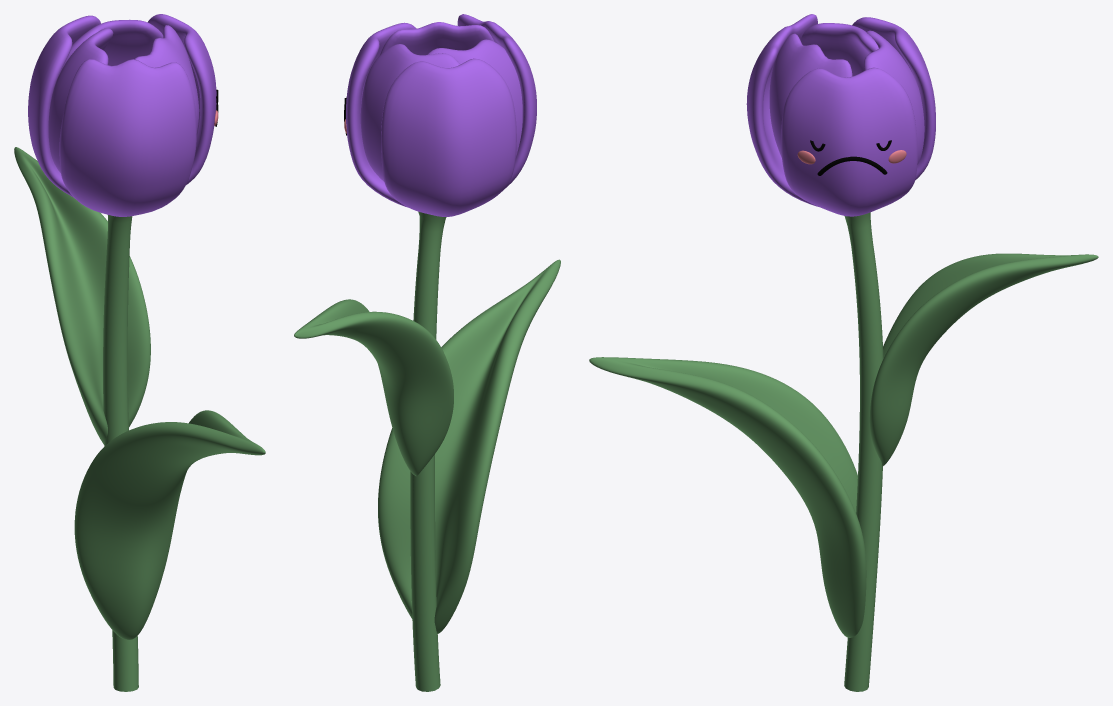
File: vsad.glb
The picture shows the model from 3 angles, left to right: view 1: azimuth 30°, elevation 25°; view 2: azimuth 150°, elevation 25°; view 3: azimuth 270°, elevation 25°; orthographic projection. The views are drawn at different scales.
Visible parts, largest first — view 1: Left Leaf, Petal 6, Right Leaf, Stem, Petal 3, Petal 4, Petal 1, Petal 2, Petal 5; view 2: Left Leaf, Petal 3, Right Leaf, Stem, Petal 2, Petal 4, Petal 6, Petal 5, Petal 1; view 3: Left Leaf, Petal 4, Right Leaf, Stem, Petal 6, Petal 5, Petal 3, Petal 1, Petal 2.
Part boxes in pixels (x1,y1,x2,y2): Left Leaf: [74, 410, 265, 639]; Petal 6: [59, 59, 196, 216]; Right Leaf: [14, 147, 150, 444]; Stem: [103, 215, 138, 691]; Petal 3: [28, 15, 100, 196]; Petal 4: [147, 14, 216, 184]; Petal 1: [48, 28, 113, 172]; Petal 2: [59, 19, 163, 74]; Petal 5: [134, 25, 199, 132]; Left Leaf: [378, 259, 560, 633]; Petal 3: [381, 58, 516, 216]; Right Leaf: [294, 299, 453, 476]; Stem: [410, 211, 446, 691]; Petal 2: [360, 44, 460, 181]; Petal 4: [346, 22, 416, 207]; Petal 6: [457, 14, 536, 188]; Petal 5: [380, 22, 494, 55]; Petal 1: [427, 39, 522, 157]; Left Leaf: [589, 357, 866, 637]; Petal 4: [781, 67, 917, 216]; Right Leaf: [869, 253, 1098, 466]; Stem: [844, 212, 883, 691]; Petal 6: [746, 14, 818, 206]; Petal 5: [769, 33, 852, 157]; Petal 3: [852, 17, 935, 180]; Petal 1: [800, 23, 878, 75]; Petal 2: [864, 30, 924, 164].
Size of the model in its own units: 1.72 by 6.34 by 4.53.
